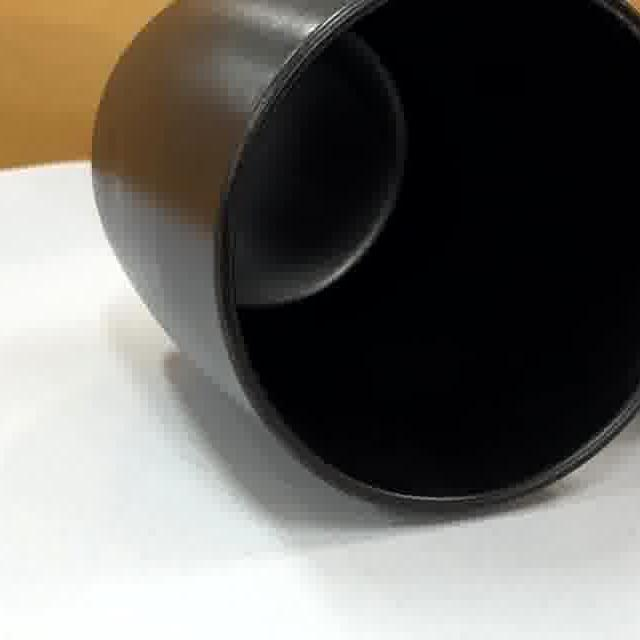cup: (155, 0, 640, 516)
